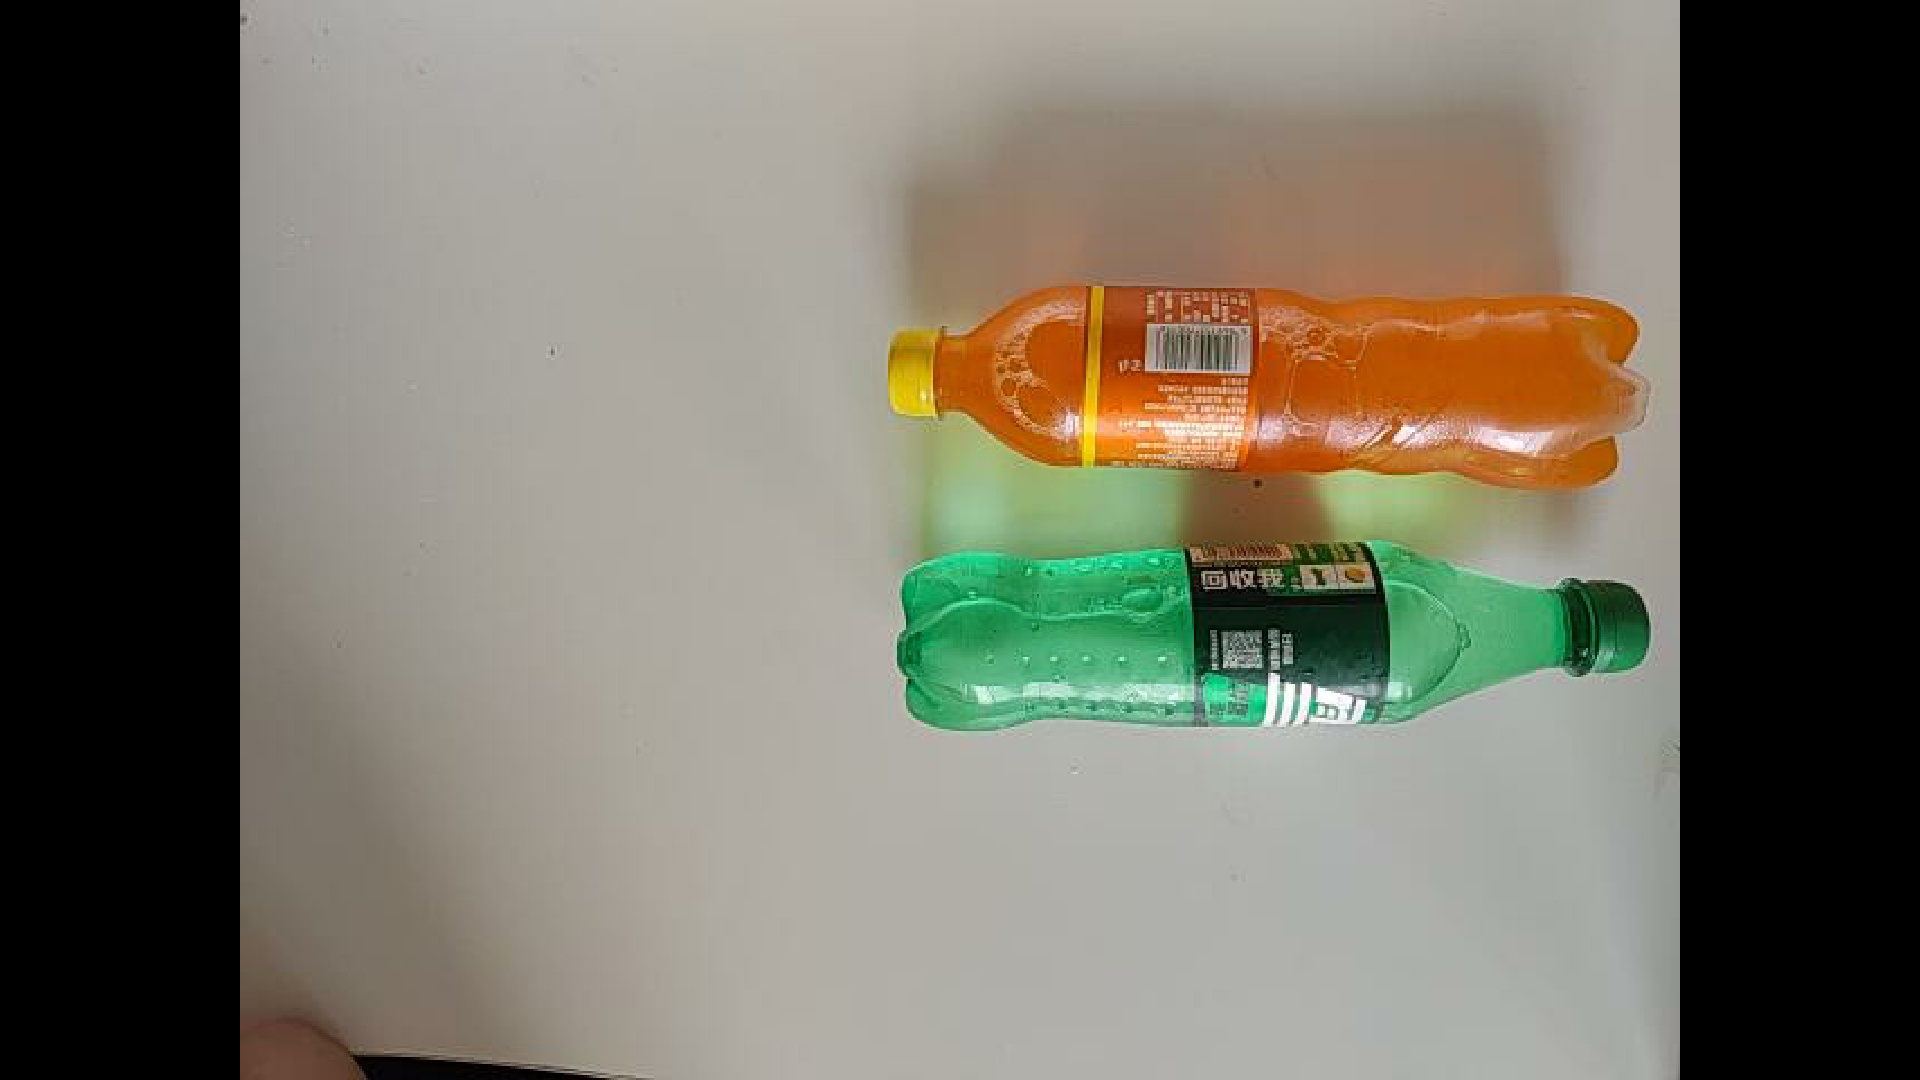fenta: (881, 276, 1652, 489)
sprite: (894, 539, 1655, 735)
